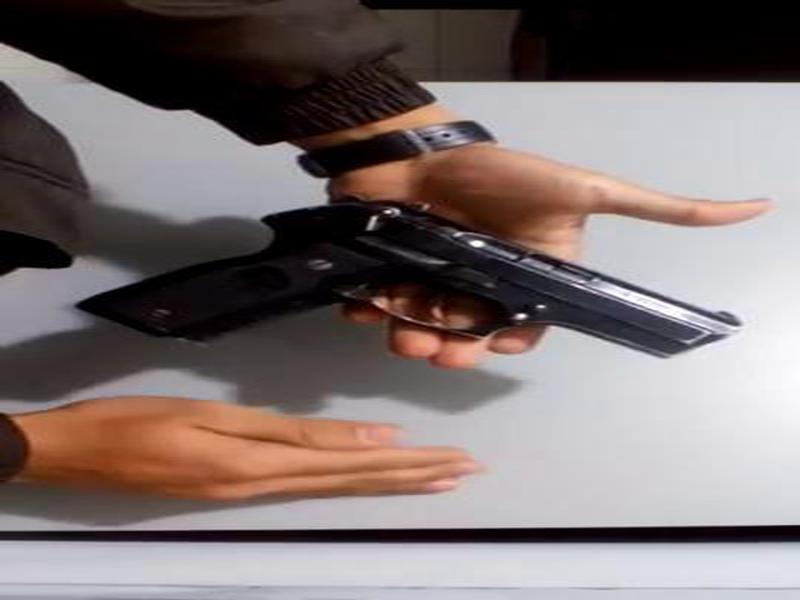Pistola: (67, 184, 757, 426)
